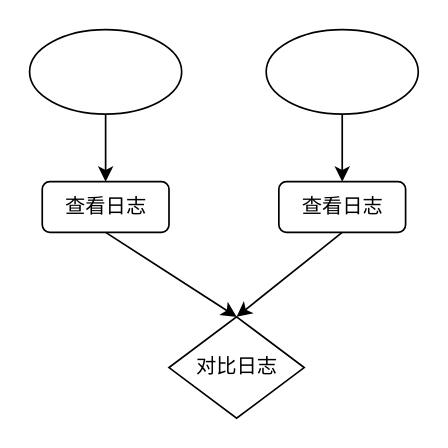
Image size: 448x448. Some labels were removed from this diagram. Each missing label, with the centre of its shape:
授权账号登录: (x=105, y=71)
非授权账号登录: (x=341, y=71)
